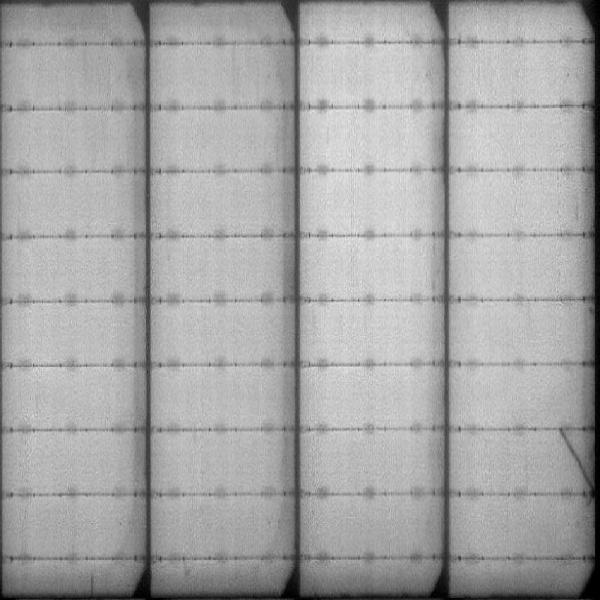scratch: (554, 434, 590, 485)
